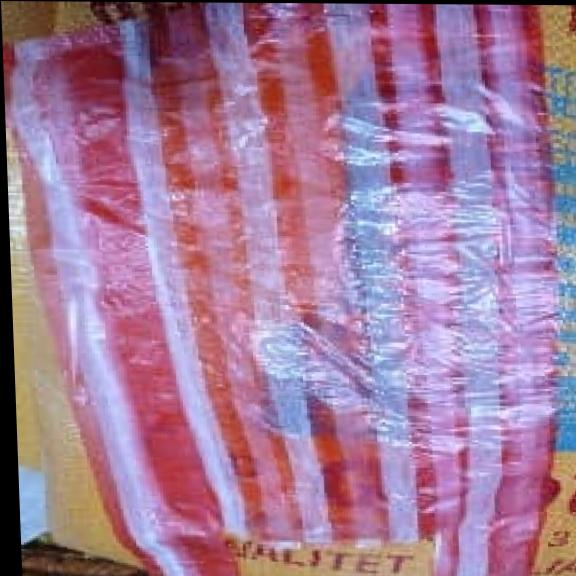Plastik: (16, 4, 559, 576)
